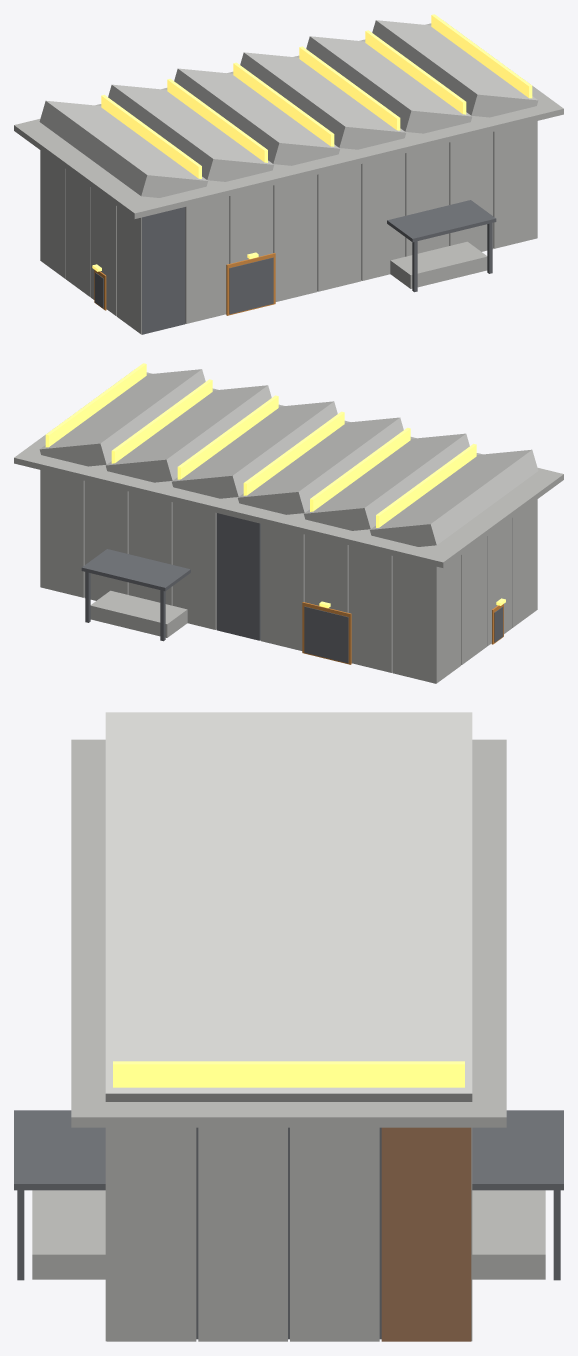
Rendered from B_hall_b.glb.
3 views of the same model, one above another, from view 1: azimuth 30°, elevation 25°; view 2: azimuth 150°, elevation 25°; view 3: azimuth 270°, elevation 25° (orthographic). The views are drawn at different scales.
Visible parts, largest first — view 1: Cube.047, Cube.048, Cube.054, Cube.052, Cube.056, Cube.058, Cube.050, Cube.004, Cube.008, Cube.003, Cube, Cube.001 (+18 smaller); view 2: Cube.047, Cube.048, Cube.054, Cube.052, Cube.056, Cube.058, Cube.050, Cube.013, Cube.017, Cube.012, Cube.009, Cube.010 (+18 smaller); view 3: Cube.047, Cube.058, Cube.050, Cube.048, Cube.052, Cube.054, Cube.056, Cube.022, Cube.025, Cube.023, Cube.024, Cube.059 (+5 smaller).
Part boxes in pixels (x1=…): Cube.047: x1=14, y1=23, x2=563, y2=218; Cube.048: x1=39, y1=100, x2=207, y2=197; Cube.054: x1=240, y1=52, x2=406, y2=149; Cube.052: x1=174, y1=68, x2=339, y2=165; Cube.056: x1=306, y1=36, x2=472, y2=133; Cube.058: x1=372, y1=20, x2=538, y2=117; Cube.050: x1=108, y1=84, x2=273, y2=181; Cube.004: x1=317, y1=164, x2=361, y2=291; Cube.008: x1=493, y1=121, x2=537, y2=248; Cube.003: x1=273, y1=175, x2=317, y2=301; Cube: x1=142, y1=207, x2=185, y2=334; Cube.001: x1=185, y1=196, x2=229, y2=323; Cube.047: x1=14, y1=372, x2=563, y2=567; Cube.048: x1=370, y1=449, x2=538, y2=546; Cube.054: x1=171, y1=401, x2=337, y2=498; Cube.052: x1=238, y1=417, x2=403, y2=514; Cube.056: x1=105, y1=385, x2=271, y2=482; Cube.058: x1=39, y1=369, x2=205, y2=466; Cube.050: x1=304, y1=433, x2=469, y2=530; Cube.013: x1=216, y1=513, x2=260, y2=640; Cube.017: x1=40, y1=470, x2=84, y2=597; Cube.012: x1=260, y1=524, x2=304, y2=650; Cube.009: x1=392, y1=556, x2=435, y2=683; Cube.010: x1=348, y1=545, x2=392, y2=672; Cube.047: x1=71, y1=739, x2=506, y2=1127; Cube.058: x1=105, y1=1003, x2=472, y2=1101; Cube.050: x1=105, y1=770, x2=472, y2=828; Cube.048: x1=105, y1=712, x2=472, y2=770; Cube.052: x1=105, y1=828, x2=472, y2=886; Cube.054: x1=105, y1=886, x2=472, y2=944; Cube.056: x1=105, y1=944, x2=472, y2=1002; Cube.022: x1=106, y1=1127, x2=196, y2=1341; Cube.025: x1=381, y1=1127, x2=471, y2=1341; Cube.023: x1=198, y1=1127, x2=287, y2=1341; Cube.024: x1=290, y1=1127, x2=379, y2=1341; Cube.059: x1=113, y1=1061, x2=464, y2=1087.
Size of the model in its own units: 39 by 13.86 by 24.
